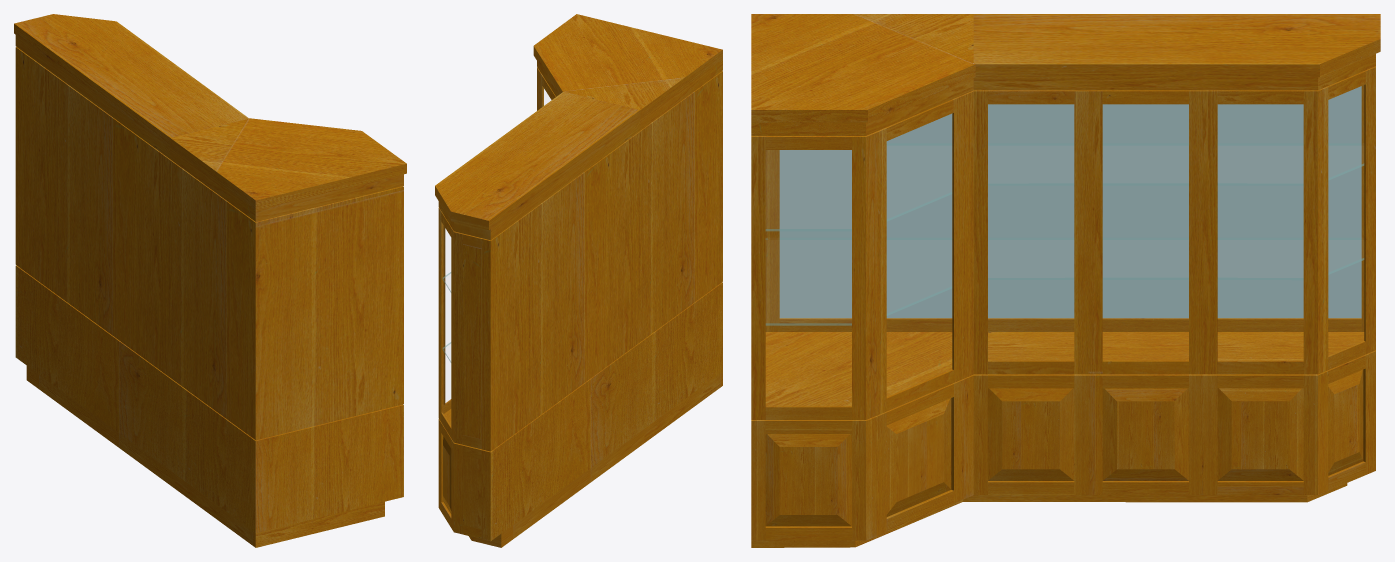
The model's file is ExtendedCabinet.fbx.
3 renders of one model, left to right at view 1: azimuth 30°, elevation 25°; view 2: azimuth 150°, elevation 25°; view 3: azimuth 270°, elevation 25°, orthographic. The views are drawn at different scales.
Visible parts, largest first — view 1: Cube; view 2: Cube; view 3: Cube.
Boxes of the visible parts, x1,y1,x2,y2 form: Cube: (14,14,406,547); Cube: (435,14,722,547); Cube: (751,14,1380,547).
Size of the model in its own units: 17.25 by 6.23 by 13.67.
4 materials, 1 textured.
